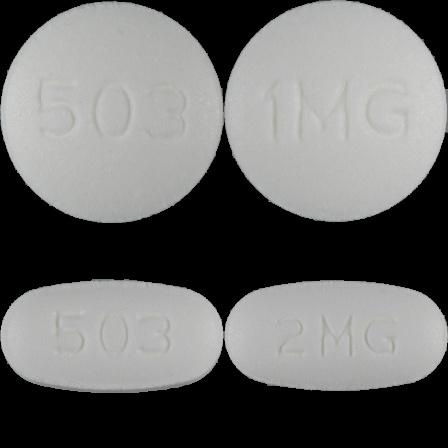54092-513: (0, 0, 224, 224)
